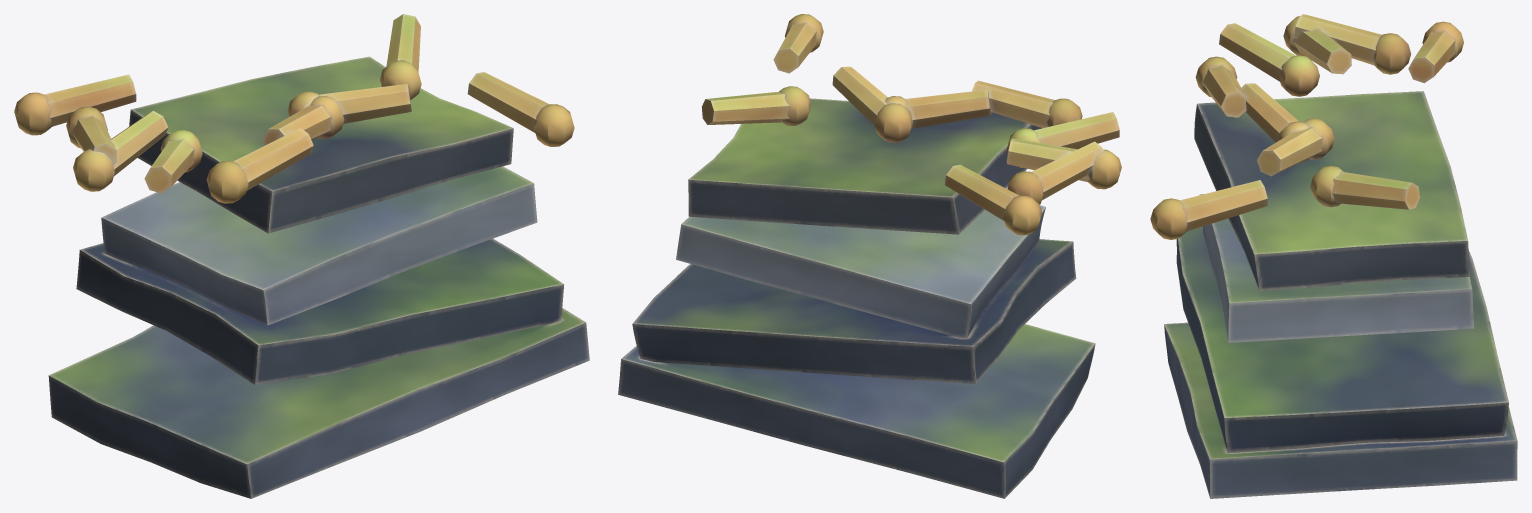
File: node_bonebed.glb
3 views of the same model, side by side, from view 1: azimuth 30°, elevation 25°; view 2: azimuth 150°, elevation 25°; view 3: azimuth 270°, elevation 25° (orthographic). The views are drawn at different scales.
Parts seen in each view (by area): view 1: SM_NodeBoneBed; view 2: SM_NodeBoneBed; view 3: SM_NodeBoneBed.
Boxes of the visible parts, x1,y1,x2,y2 form: SM_NodeBoneBed: (14,14,589,498); SM_NodeBoneBed: (618,14,1121,498); SM_NodeBoneBed: (1150,14,1517,498).
Bounding box in the file's own units: 1.86 × 1.27 × 1.32.
1 material, 1 textured.
